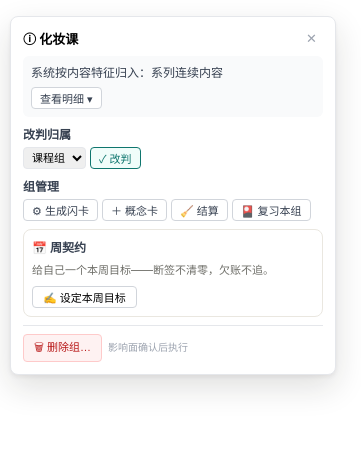
it: RouteInfoPopover ⓘ 弹层 › 四区齐全：人话归因一行 + 明细默认折叠可展开 + 改判/组管理/周契约
Expected: the text "系统按内容特征归入：系列连续内容" is shown, [31, 66, 223, 80]
Click the button with test id "route-details-toggle": coordinates (66, 98) [31, 87, 102, 109]
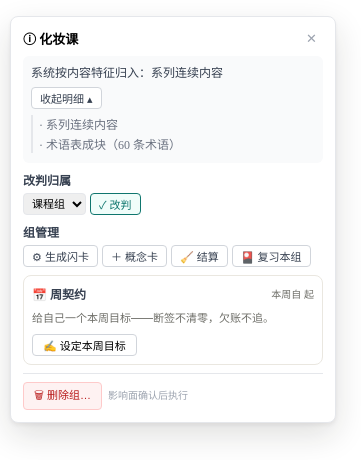
Expected: the dropdown with test id "override-kind" is shown, [23, 193, 86, 215]
Result: the element with test id "route-details" shows "术语表成块（60 条术语）" at [46, 138, 181, 152]
